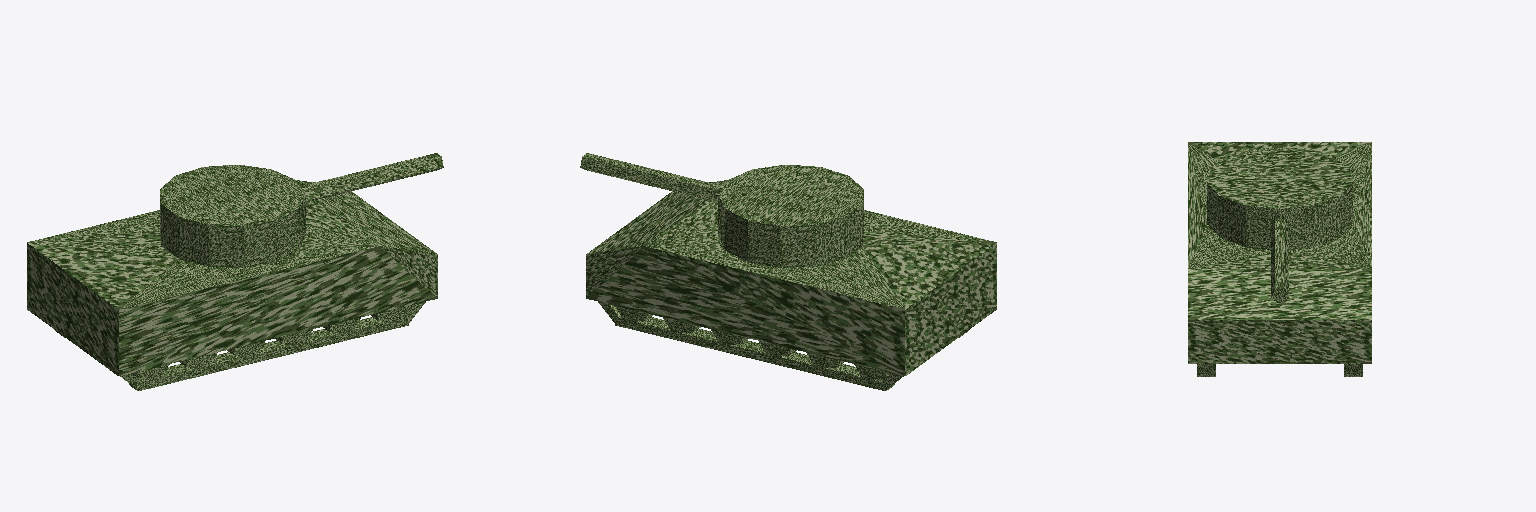
3 renders of one model, left to right at view 1: azimuth 30°, elevation 25°; view 2: azimuth 150°, elevation 25°; view 3: azimuth 270°, elevation 25°, orthographic.
Visible parts, largest first — view 1: Tank_Base; view 2: Tank_Base; view 3: Tank_Base.
Boxes of the visible parts, x1,y1,x2,y2 form: Tank_Base: [27, 153, 443, 390]; Tank_Base: [580, 153, 996, 390]; Tank_Base: [1188, 142, 1371, 376].
Size of the model in its own units: 23 by 7.95 by 10.
Materials: 1 (1 with a texture image).